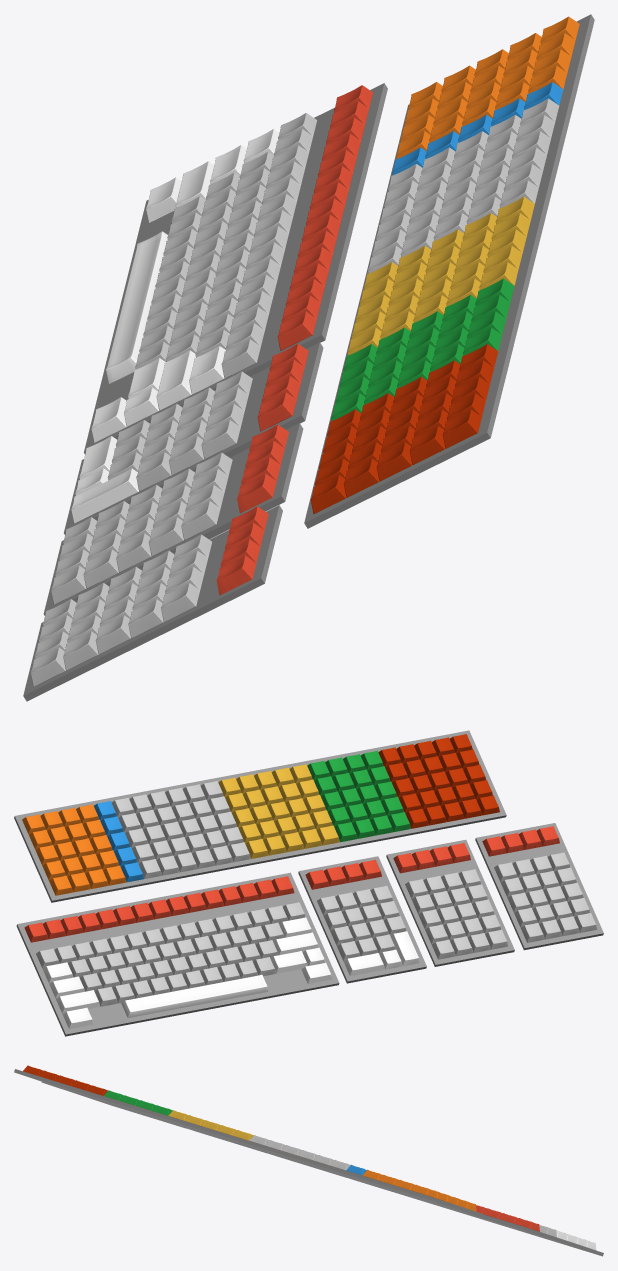
File: CoordinateKeyboard.fbx
3 views of the same model, one above another, from view 1: azimuth 30°, elevation 25°; view 2: azimuth 150°, elevation 25°; view 3: azimuth 270°, elevation 25° (orthographic). The views are drawn at different scales.
Visible parts, largest first — view 1: Cube, Cube.037, Cube.009, Plane.004, Plane.003, Cube.001, Cube.002, Cube.007, Cube.003, Cube.004, Plane.002, Cube.005 (+14 smaller); view 2: Cube, Plane.004, Cube.037, Cube.009, Plane.003, Cube.001, Cube.002, Cube.003, Cube.007, Cube.004, Cube.005, Plane.006 (+17 smaller); view 3: Cube, Plane.003, Plane.004, Cube.001.
Boxes of the visible parts, x1=… form: Cube: x1=310, y1=16, x2=579, y2=513; Cube.037: x1=30, y1=534, x2=212, y2=686; Cube.009: x1=51, y1=452, x2=232, y2=604; Plane.004: x1=84, y1=83, x2=387, y2=454; Plane.003: x1=304, y1=14, x2=594, y2=528; Cube.001: x1=277, y1=85, x2=373, y2=350; Cube.002: x1=221, y1=113, x2=317, y2=378; Cube.007: x1=136, y1=371, x2=252, y2=491; Cube.003: x1=195, y1=152, x2=274, y2=357; Cube.004: x1=165, y1=172, x2=239, y2=361; Plane.002: x1=23, y1=505, x2=282, y2=701; Cube.005: x1=135, y1=196, x2=205, y2=369; Cube: x1=22, y1=734, x2=499, y2=895; Plane.004: x1=16, y1=872, x2=339, y2=1036; Cube.037: x1=494, y1=852, x2=597, y2=942; Cube.009: x1=405, y1=869, x2=508, y2=959; Plane.003: x1=14, y1=730, x2=506, y2=902; Cube.001: x1=24, y1=876, x2=294, y2=942; Cube.002: x1=36, y1=902, x2=305, y2=968; Cube.003: x1=68, y1=922, x2=284, y2=977; Cube.007: x1=317, y1=885, x2=406, y2=945; Cube.004: x1=79, y1=940, x2=278, y2=991; Cube.005: x1=94, y1=957, x2=275, y2=1006; Plane.006: x1=298, y1=856, x2=426, y2=983; Cube: x1=23, y1=1065, x2=476, y2=1211; Plane.003: x1=14, y1=1069, x2=483, y2=1217; Plane.004: x1=282, y1=1156, x2=603, y2=1256; Cube.001: x1=476, y1=1205, x2=539, y2=1231.
Bounding box in the file's own units: 26.87 × 7.45 × 30.55.
